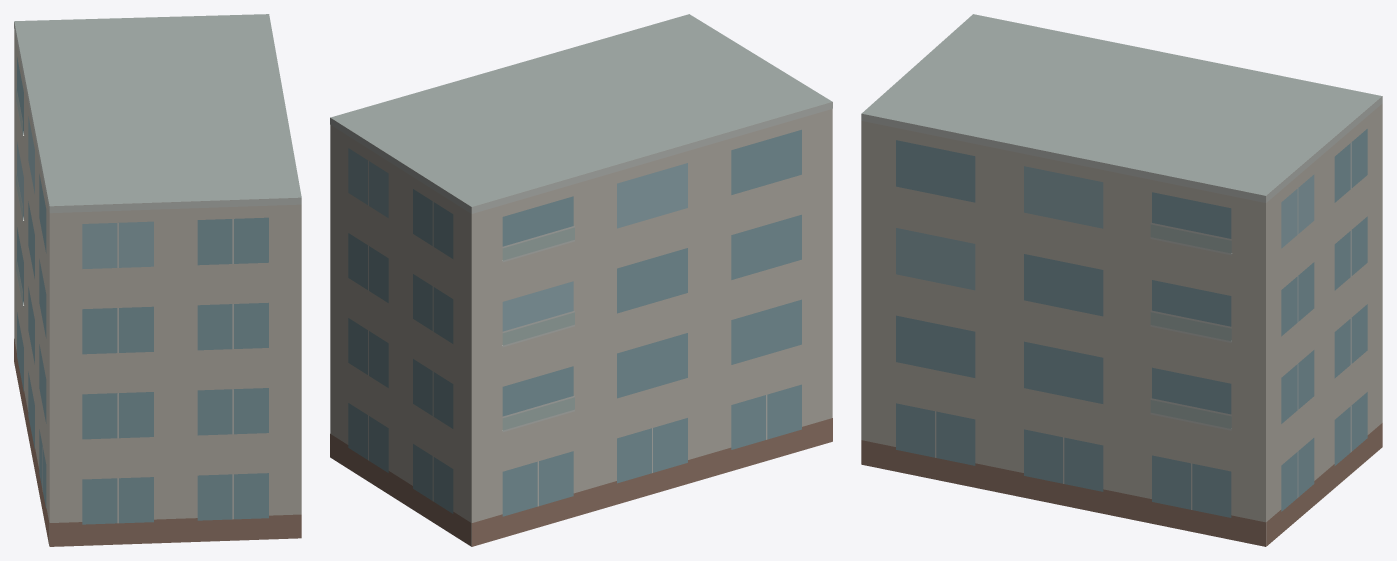
The model's file is survey-upis-32711792.glb.
The picture shows the model from 3 angles, left to right: view 1: azimuth 30°, elevation 25°; view 2: azimuth 150°, elevation 25°; view 3: azimuth 270°, elevation 25°; orthographic projection. The views are drawn at different scales.
Parts seen in each view (by area): view 1: survey-upis-32711792.tmp; view 2: survey-upis-32711792.tmp; view 3: survey-upis-32711792.tmp.
Part boxes in pixels (x1,y1,x2,y2): survey-upis-32711792.tmp: (14, 14, 301, 546); survey-upis-32711792.tmp: (330, 14, 832, 546); survey-upis-32711792.tmp: (861, 14, 1382, 546).
Size of the model in its own units: 13.24 by 11.9 by 16.02.
